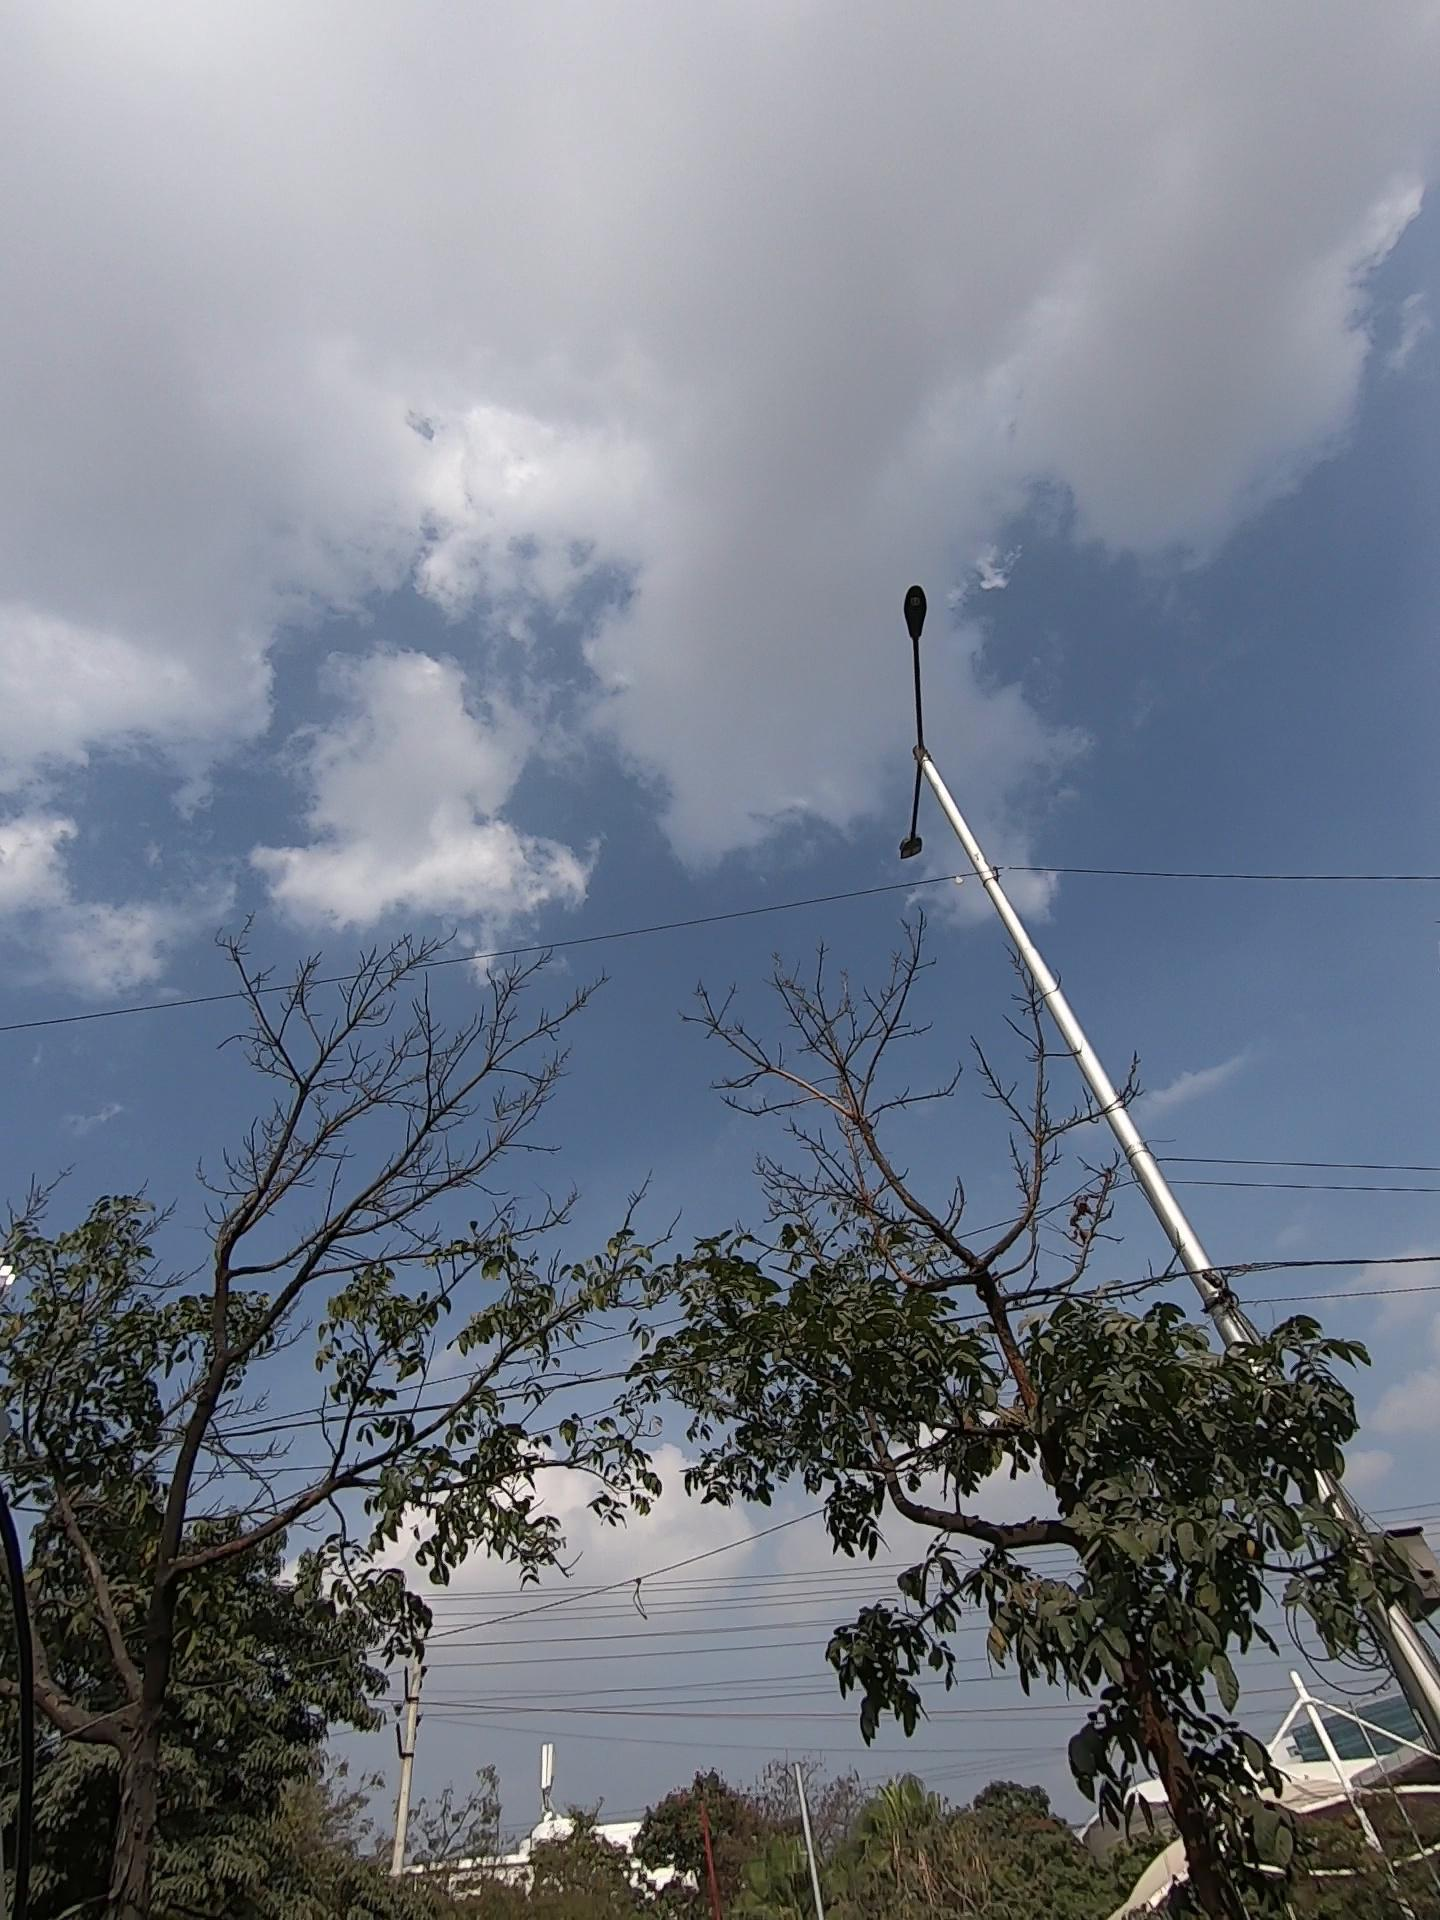off: (861, 541, 983, 895)
